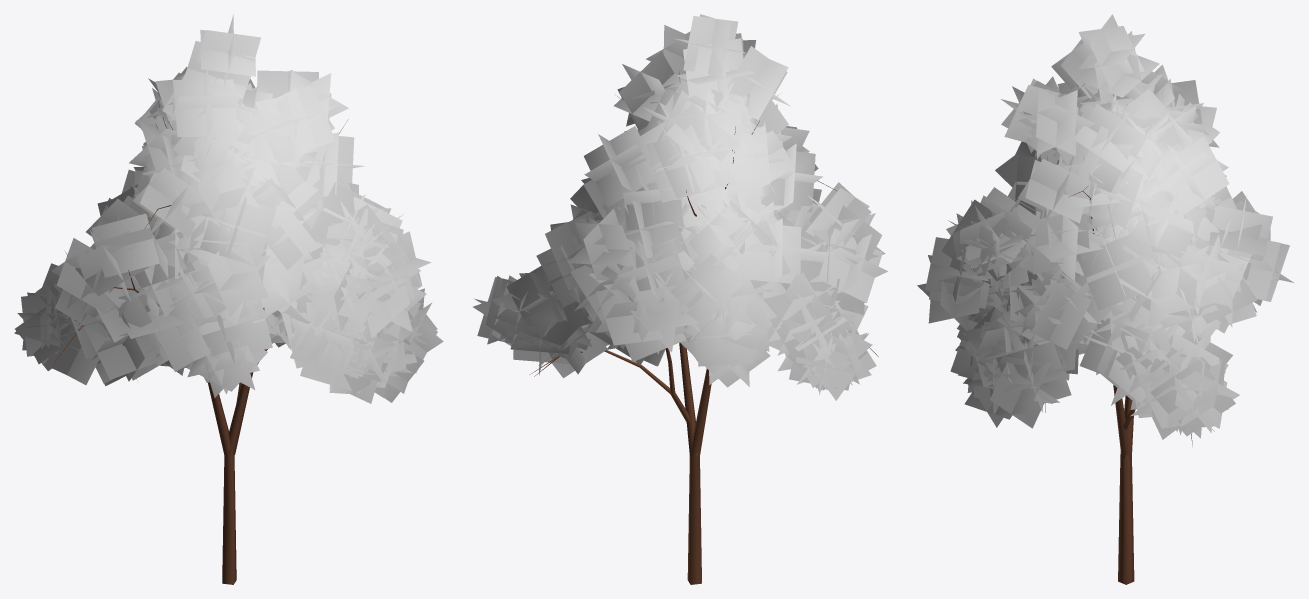
Rendered from T2Tree2.fbx.
3 views of the same model, side by side, from view 1: azimuth 30°, elevation 25°; view 2: azimuth 150°, elevation 25°; view 3: azimuth 270°, elevation 25° (orthographic). The views are drawn at different scales.
Visible parts, largest first — view 1: Leaves_2.2B, Leaves_2.2A, Bark2.2; view 2: Leaves_2.2B, Leaves_2.2A, Bark2.2; view 3: Leaves_2.2A, Leaves_2.2B, Bark2.2.
Boxes of the visible parts, x1,y1,x2,y2 form: Leaves_2.2B: (17,14,437,397); Leaves_2.2A: (14,30,443,403); Bark2.2: (53,102,348,584); Leaves_2.2B: (473,16,887,394); Leaves_2.2A: (491,14,882,400); Bark2.2: (530,96,878,584); Leaves_2.2A: (917,14,1293,439); Leaves_2.2B: (928,26,1280,438); Bark2.2: (970,148,1214,584).
Size of the model in its own units: 5.95 by 8.71 by 5.36.
